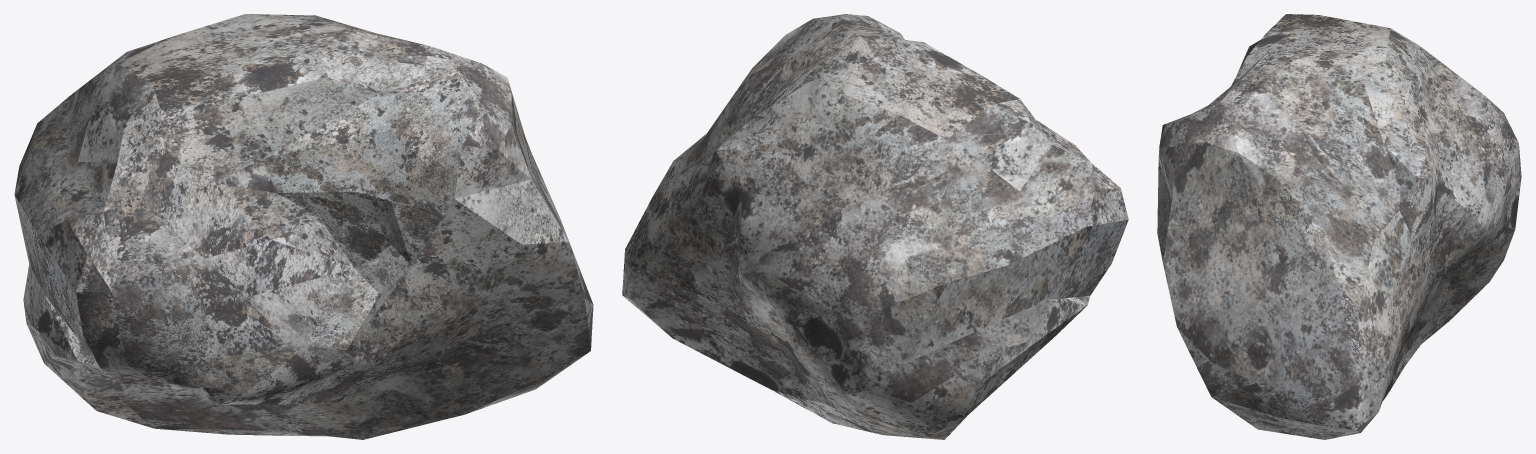
File: Asteroid_Large_006.fbx
3 views of the same model, side by side, from view 1: azimuth 30°, elevation 25°; view 2: azimuth 150°, elevation 25°; view 3: azimuth 270°, elevation 25° (orthographic). The views are drawn at different scales.
Parts seen in each view (by area): view 1: Asteroid_Large_006; view 2: Asteroid_Large_006; view 3: Asteroid_Large_006.
Boxes of the visible parts, left/top/right/bottom form: Asteroid_Large_006: left=14, top=14, right=593, bottom=439; Asteroid_Large_006: left=622, top=14, right=1128, bottom=439; Asteroid_Large_006: left=1157, top=14, right=1521, bottom=439.
Bounding box in the file's own units: 49.89 × 36.27 × 37.06.
1 material, 1 textured.
